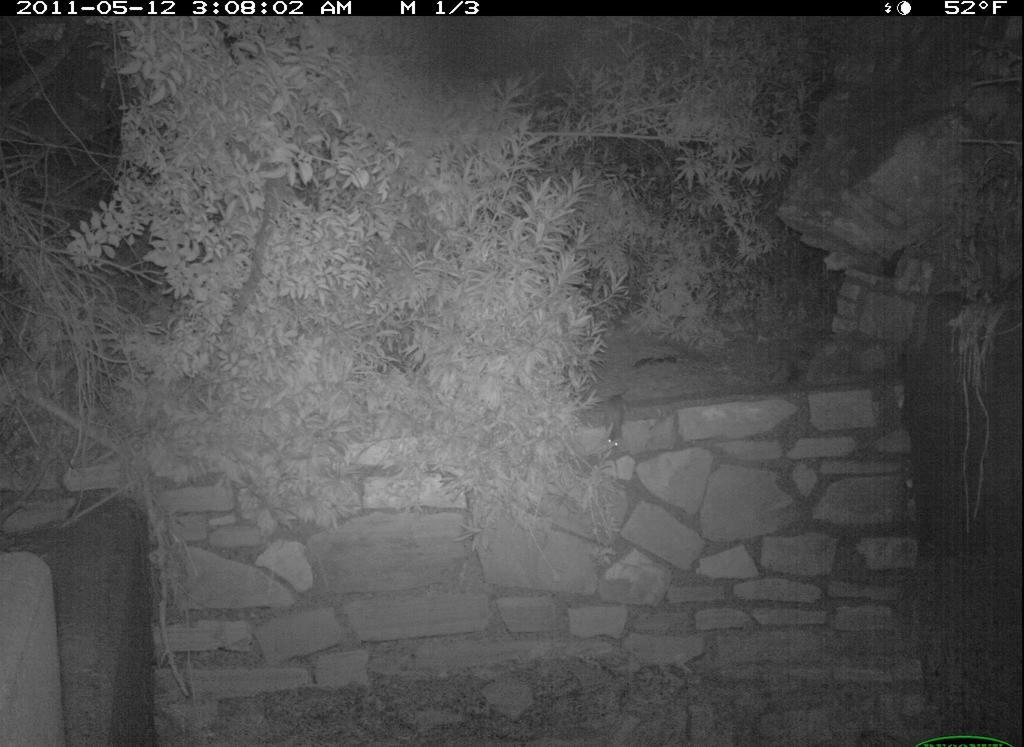rodent: (598, 387, 639, 464)
